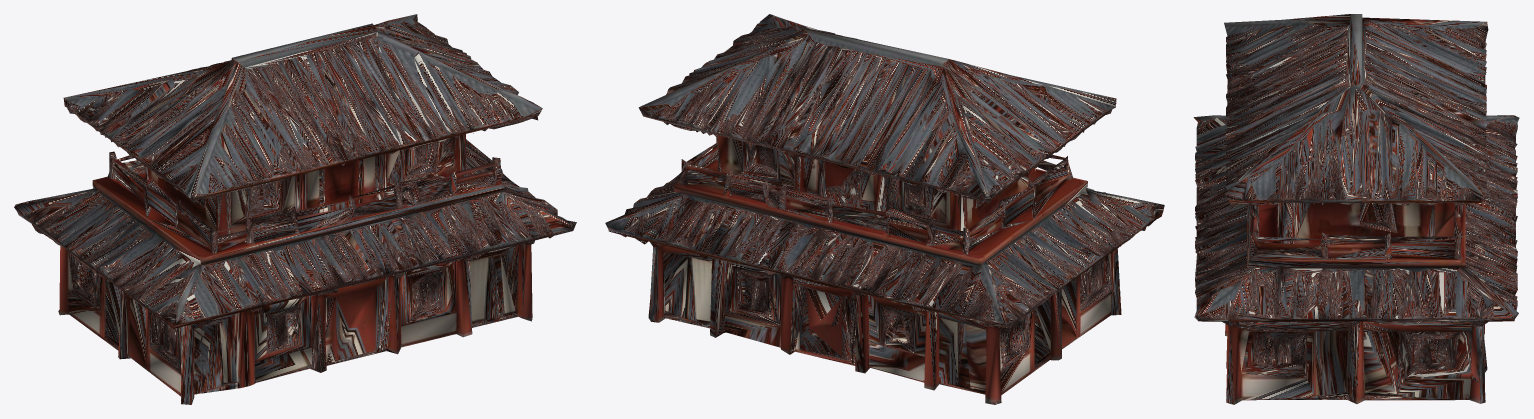
Rendered from louge_lod1.glb.
The picture shows the model from 3 angles, left to right: view 1: azimuth 30°, elevation 25°; view 2: azimuth 150°, elevation 25°; view 3: azimuth 270°, elevation 25°; orthographic projection.
Parts seen in each view (by area): view 1: node_0; view 2: node_0; view 3: node_0.
Boxes of the visible parts, <box> form: node_0: <box>14,14,576,404</box>; node_0: <box>605,14,1164,404</box>; node_0: <box>1193,14,1519,404</box>.
Size of the model in its own units: 19.42 by 12.4 by 13.37.
1 material, 1 textured.
